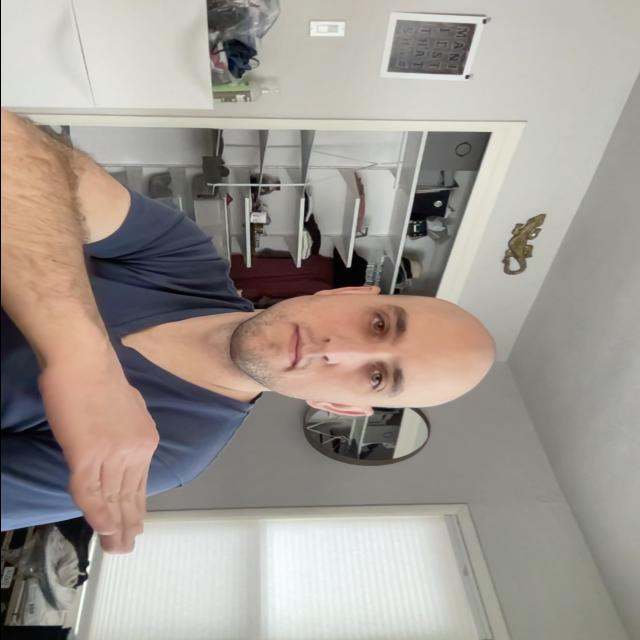Paper: (33, 372, 163, 556)
